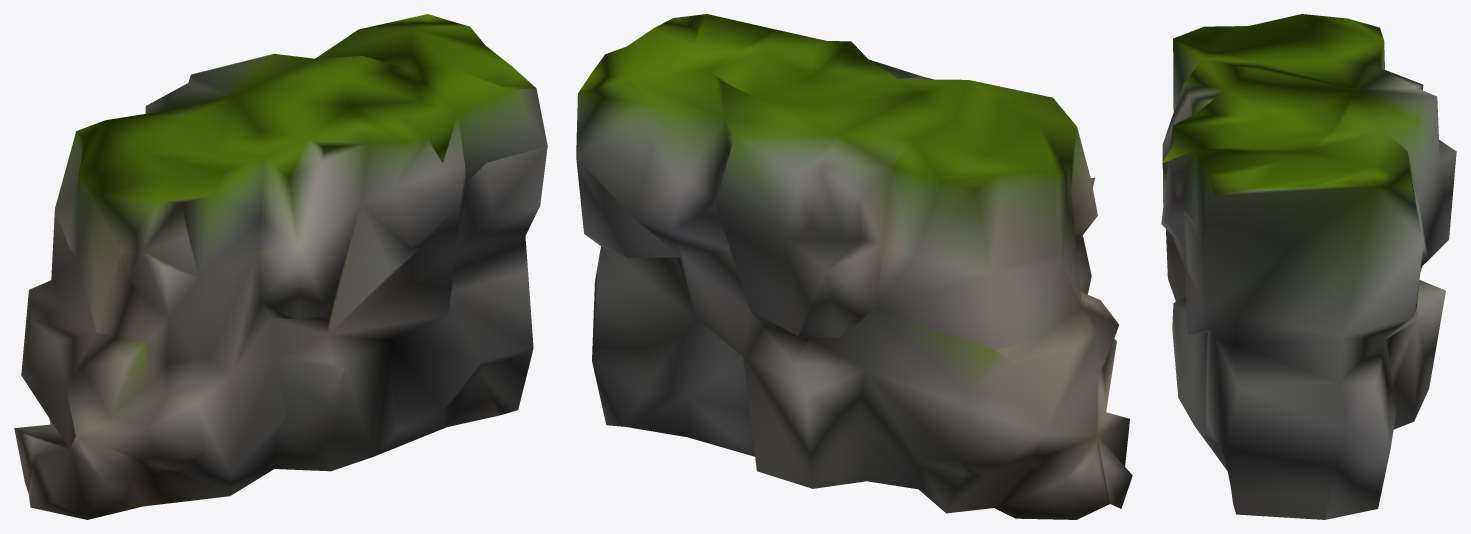
File: env-cliff1.lod.glb
The picture shows the model from 3 angles, left to right: view 1: azimuth 30°, elevation 25°; view 2: azimuth 150°, elevation 25°; view 3: azimuth 270°, elevation 25°; orthographic projection. The views are drawn at different scales.
Visible parts, largest first — view 1: tripo_node_e3896362-62c2-4335-bcd3-97c2c46b2add; view 2: tripo_node_e3896362-62c2-4335-bcd3-97c2c46b2add; view 3: tripo_node_e3896362-62c2-4335-bcd3-97c2c46b2add.
Part boxes in pixels (<box>): tripo_node_e3896362-62c2-4335-bcd3-97c2c46b2add: <box>14,14,547,519</box>; tripo_node_e3896362-62c2-4335-bcd3-97c2c46b2add: <box>576,14,1132,519</box>; tripo_node_e3896362-62c2-4335-bcd3-97c2c46b2add: <box>1161,14,1456,519</box>.
Bounding box in the file's own units: 0.978 × 0.6816 × 0.5374.
